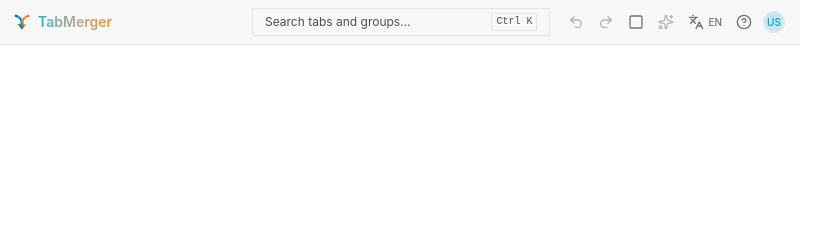
Test: Header — Upgrade to Pro menu item › shows "Upgrade to Pro" when signed in with free tier
The image size is (817, 229).
Click the button "US": (774,22) top-left (760, 8), bottom-right (788, 36)
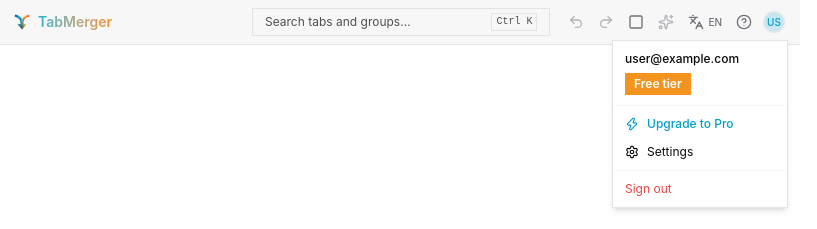
Expected: the menu item "Upgrade to Pro" is shown, top-left (625, 116), bottom-right (734, 131)
